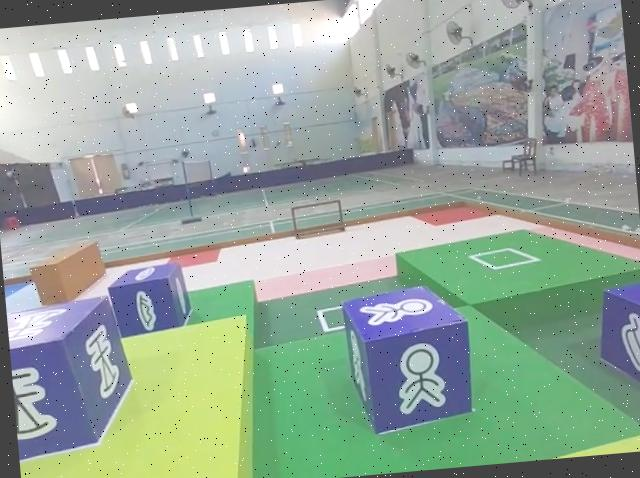R2 Real Blue: (5, 292, 140, 468), (337, 284, 473, 441), (102, 260, 193, 341), (593, 282, 640, 411)
